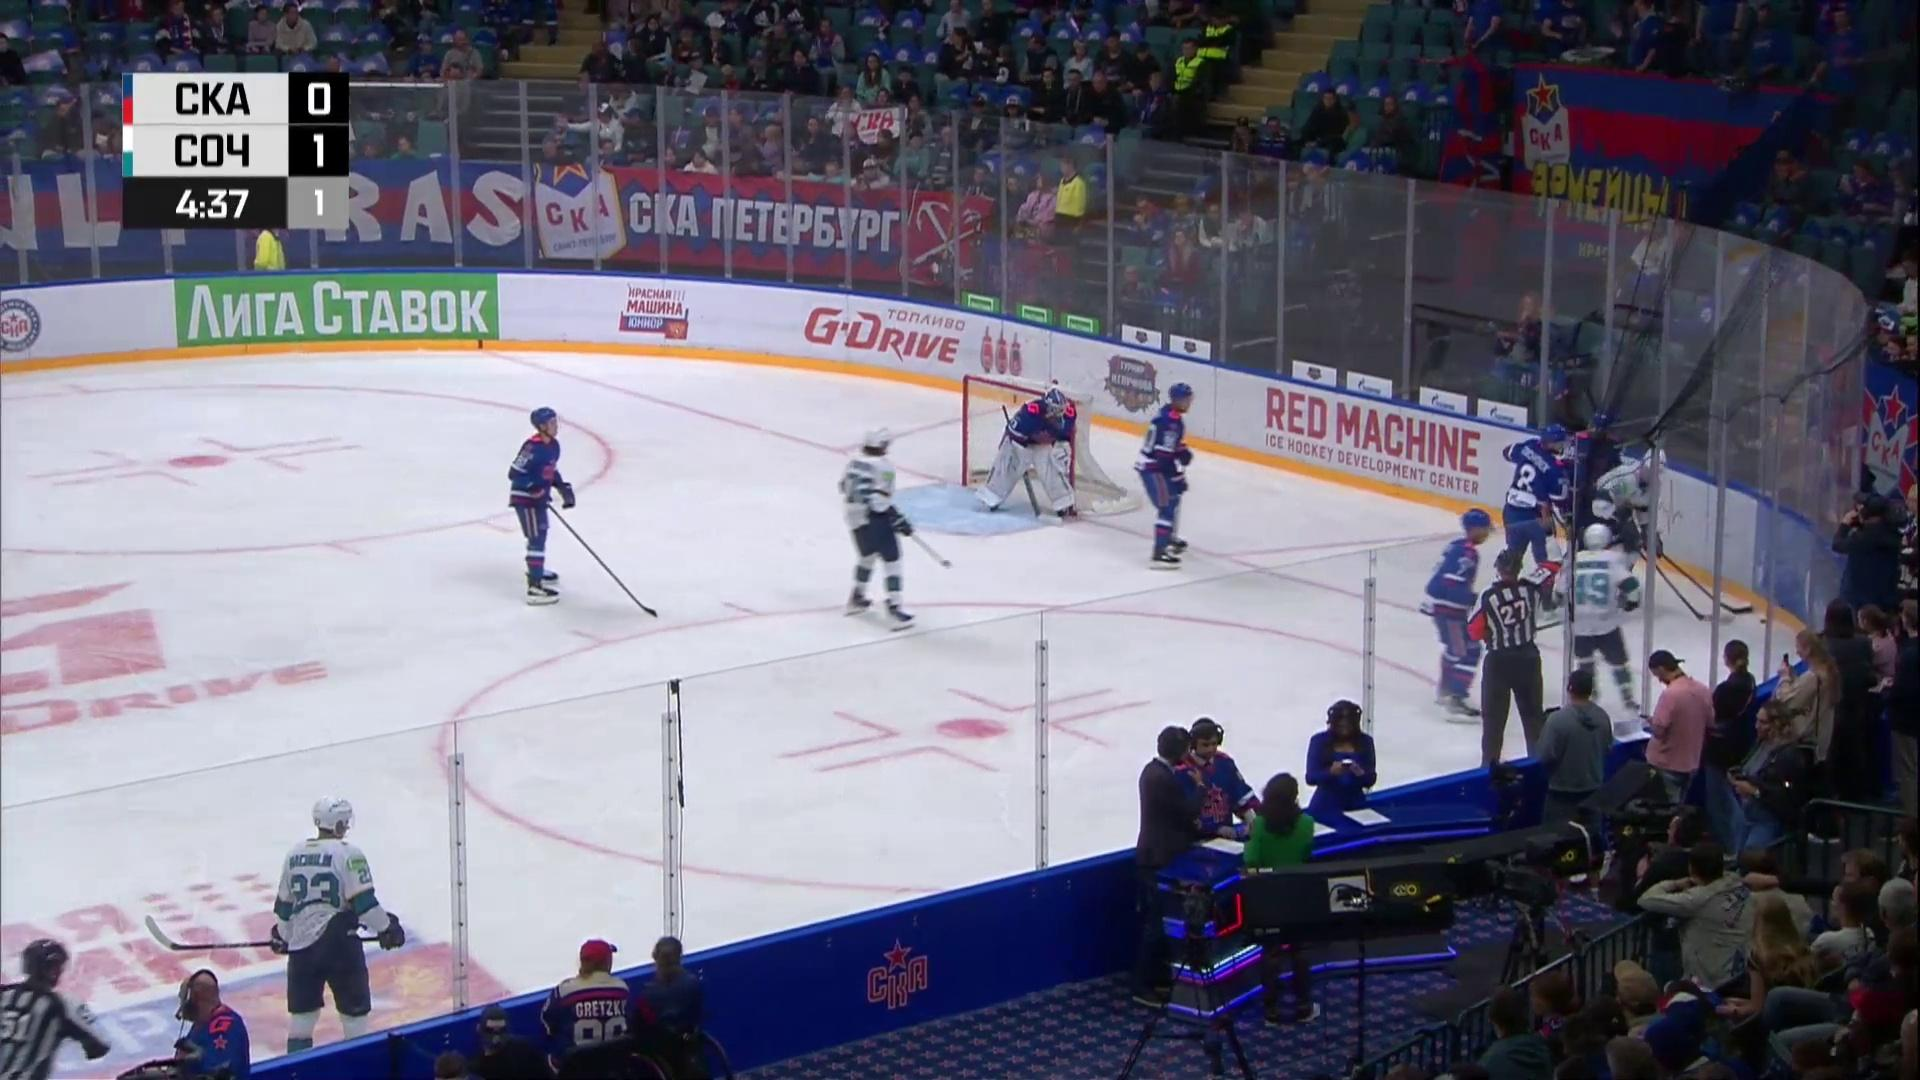ball: (1759, 620, 1767, 624)
